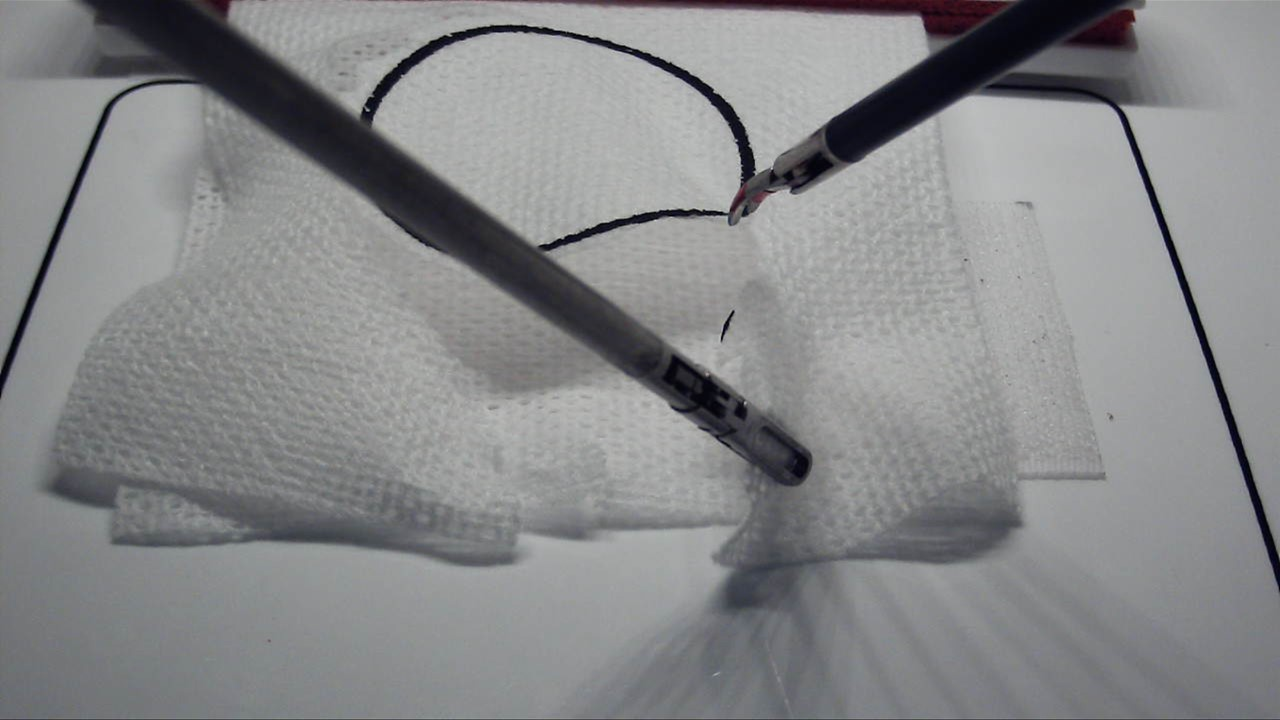Circle: (358, 24, 757, 250)
Grasper: (717, 401, 816, 493)
Scissor: (728, 160, 793, 228)
